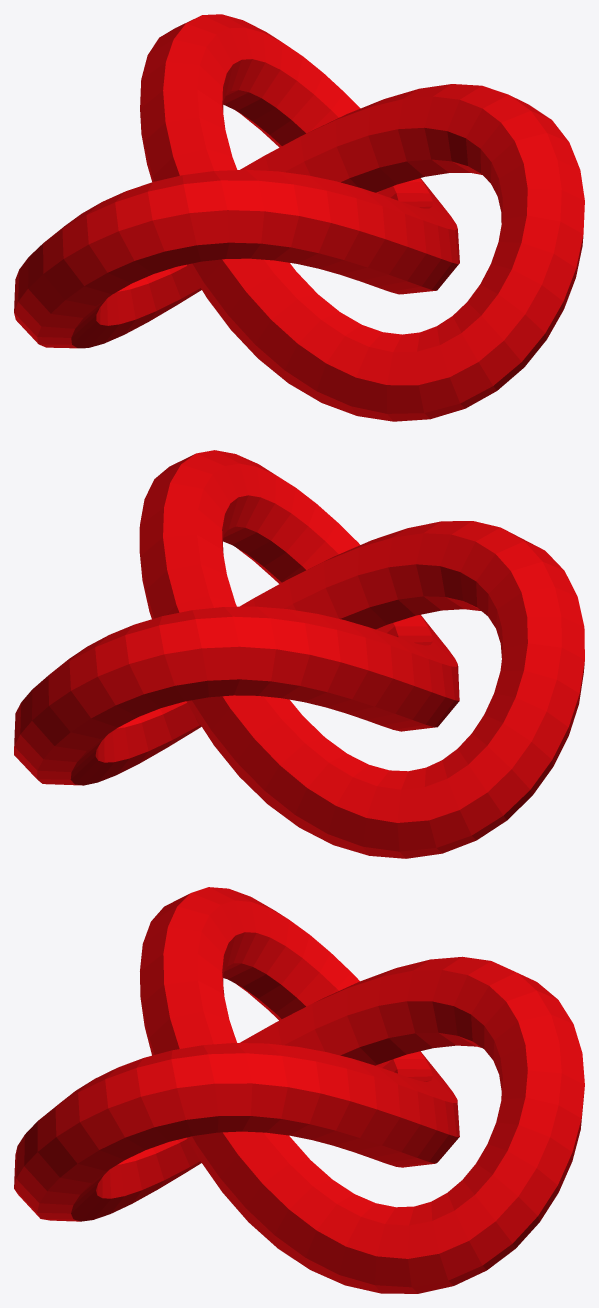
File: supertorus.gltf
3 renders of one model, top to bottom at view 1: azimuth 30°, elevation 25°; view 2: azimuth 150°, elevation 25°; view 3: azimuth 270°, elevation 25°, orthographic.
Visible parts, largest first — view 1: TorusKnot; view 2: TorusKnot; view 3: TorusKnot.
Boxes of the visible parts, x1,y1,x2,y2 form: TorusKnot: [14, 14, 584, 421]; TorusKnot: [14, 450, 584, 858]; TorusKnot: [14, 887, 584, 1293].
Bounding box in the file's own units: 6.04 × 2.96 × 6.41.
